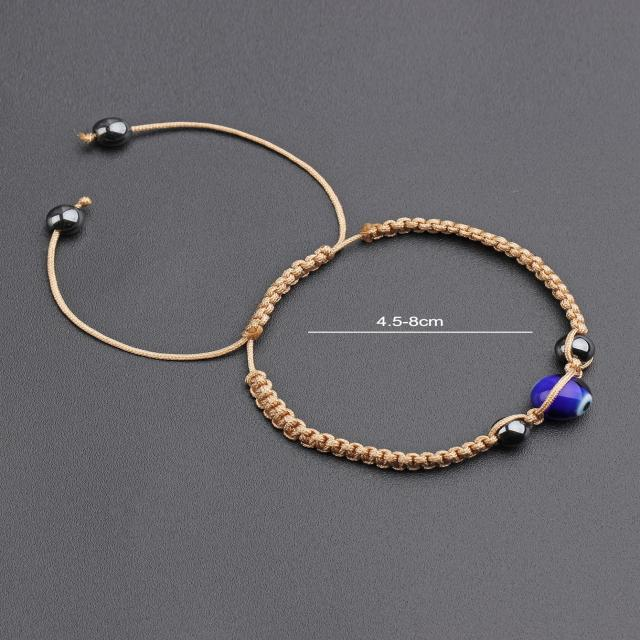bracelet: (34, 50, 640, 497)
